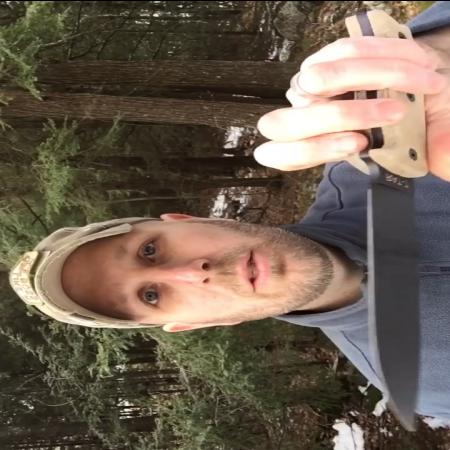long weapon: (248, 55, 435, 437)
